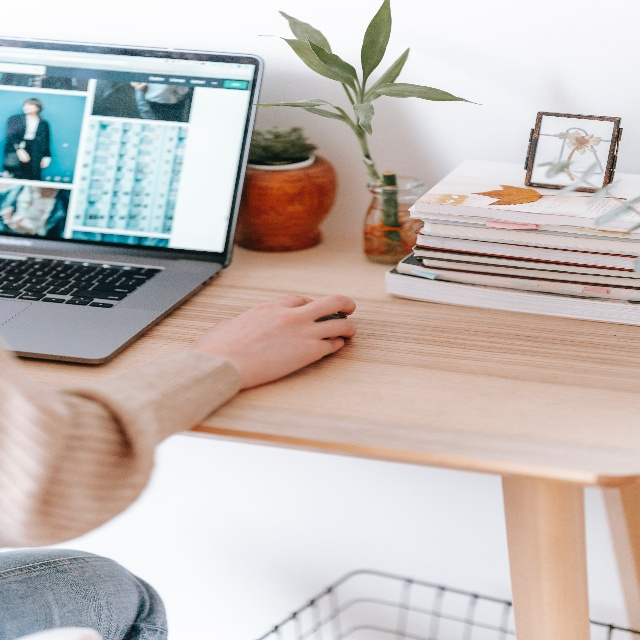Sin_guantes: (198, 292, 356, 391)
